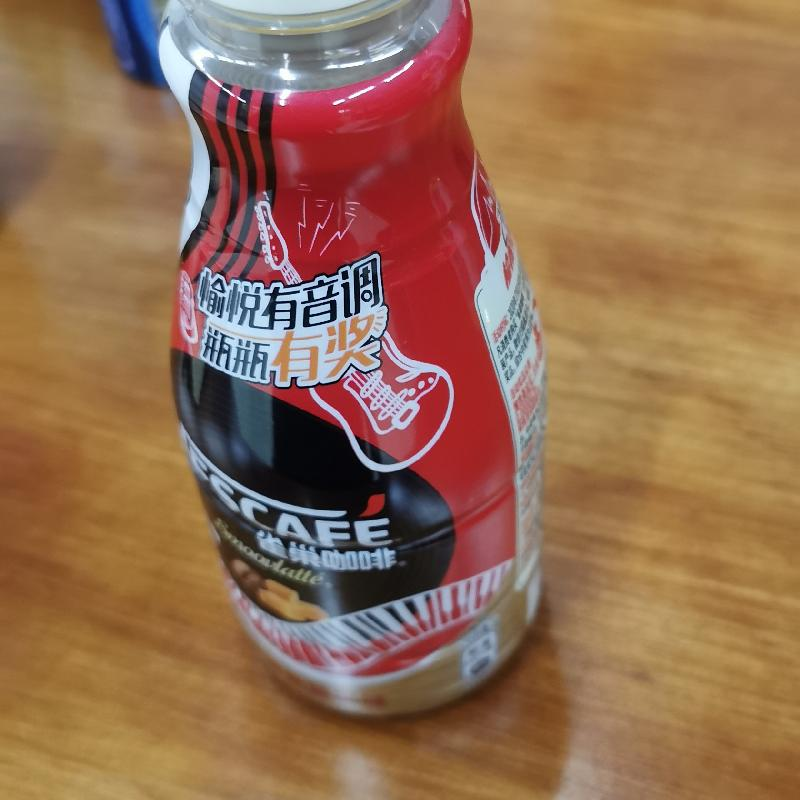bottles: (149, 0, 558, 745)
